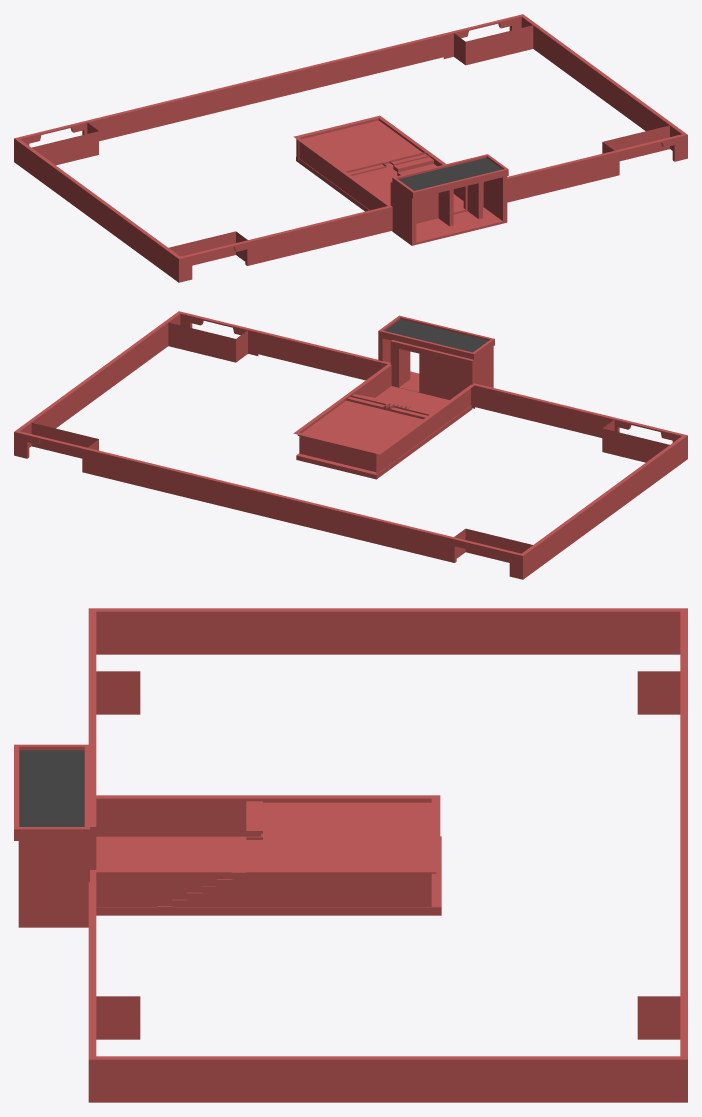
Rendered from SM_house_section_21.fbx.
3 renders of one model, top to bottom at view 1: azimuth 30°, elevation 25°; view 2: azimuth 150°, elevation 25°; view 3: azimuth 270°, elevation 25°, orthographic. The views are drawn at different scales.
Visible parts, largest first — view 1: Cube_1; view 2: Cube_1; view 3: Cube_1.
Boxes of the visible parts, x1,y1,x2,y2 form: Cube_1: [14, 14, 687, 282]; Cube_1: [14, 311, 687, 579]; Cube_1: [14, 608, 687, 1102].
Size of the model in its own units: 2807 by 288 by 1772.
